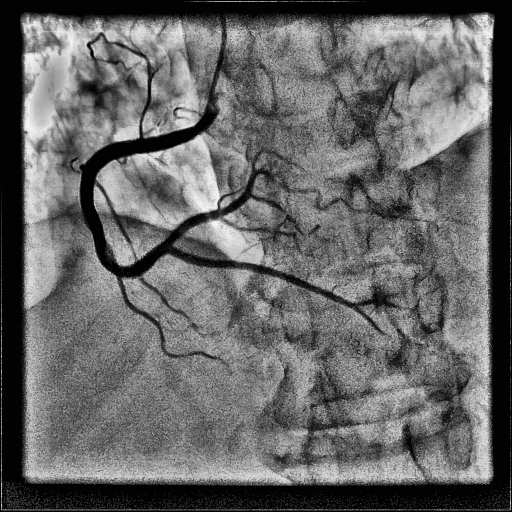pborca: (164, 171, 257, 246)
pda: (168, 247, 384, 335)
rca: (80, 125, 202, 278)
